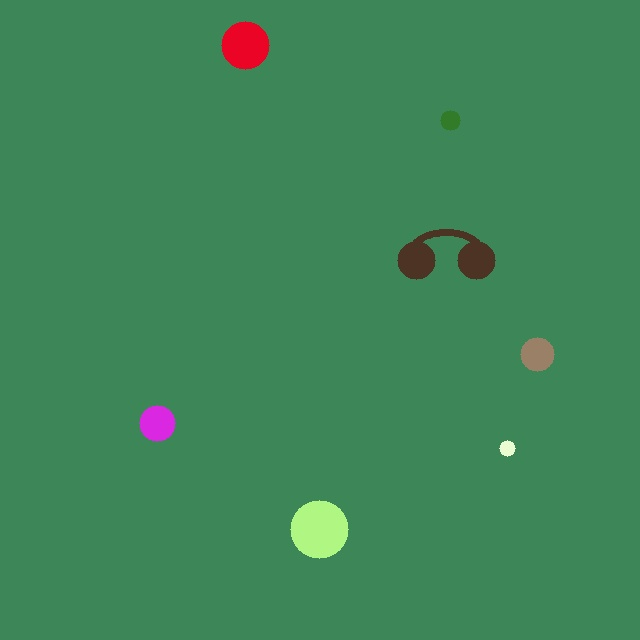over_ear: (393, 218, 499, 283)
